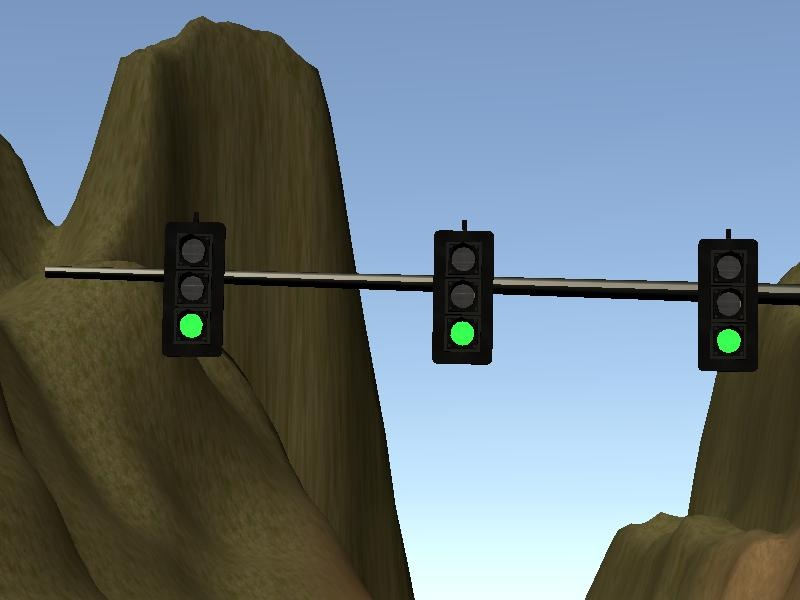green: (429, 219, 501, 373), (160, 215, 233, 356), (695, 227, 762, 377)
